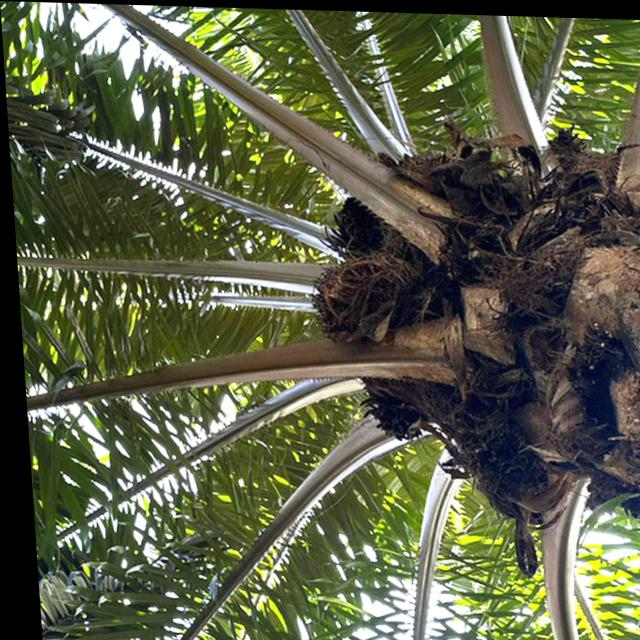ripe: (304, 258, 413, 340)
